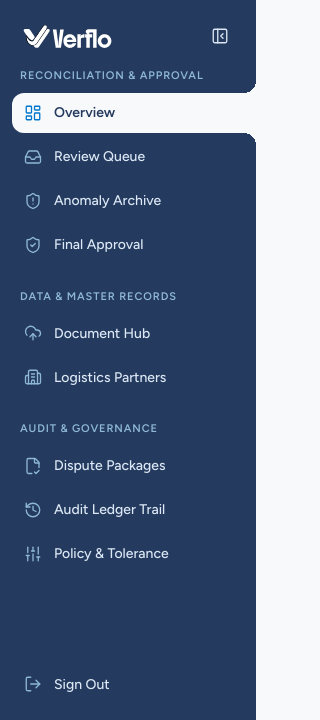
Test: Sidebar collapse › collapses from the toggle and saves the choice
Step 1. Click the button named "Collapse sidebar" → (220, 36), box [204,20,236,52]
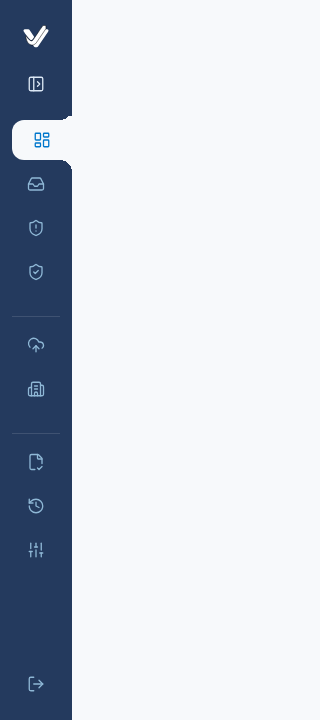
Check: the button named "Expand sidebar" is shown, box [20,68,52,100]
